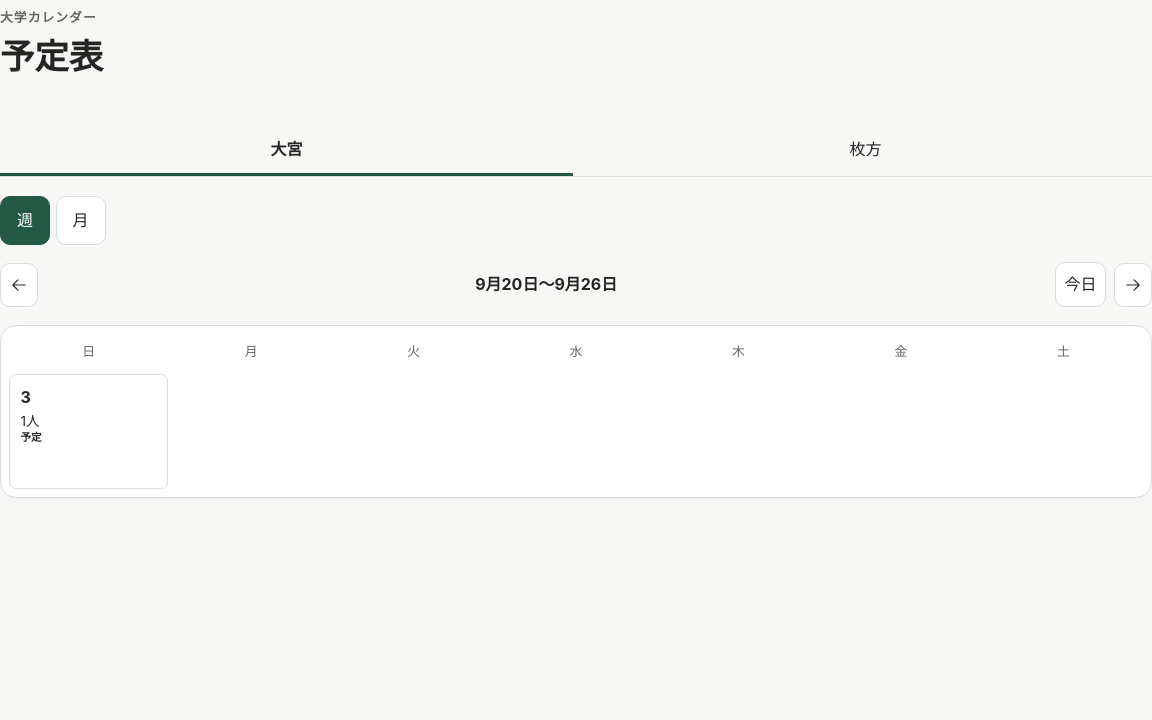
Scenario: calendar dialog dismissal › keeps delete confirmation beside the selected schedule and refreshes day and calendar
Click the button with aria-label "2099-01-03".
click(89, 431)  # box [9,374,168,489]
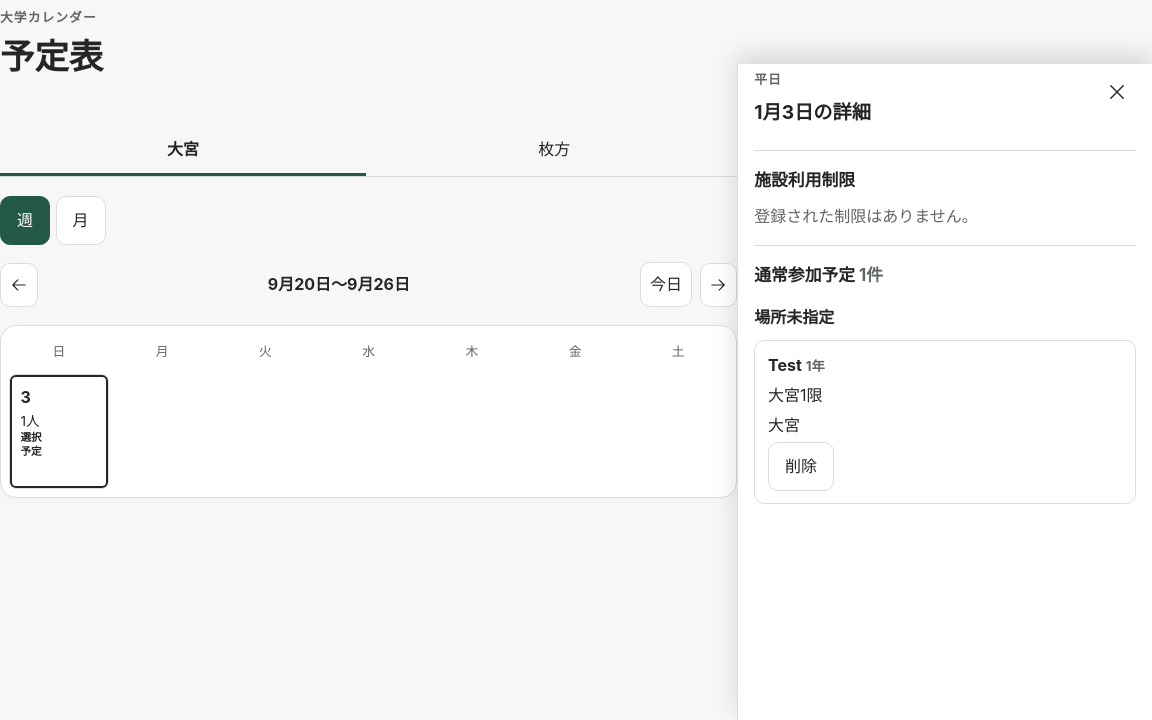
Click the button "削除".
click(801, 466)  # box [768,442,834,491]
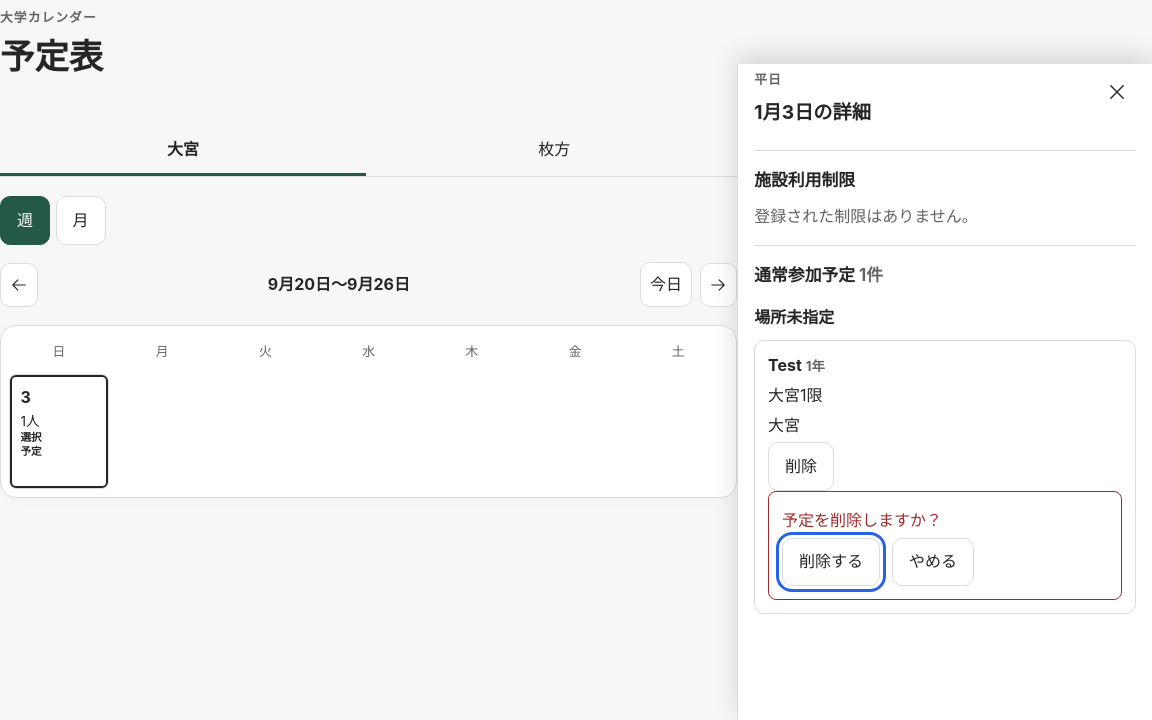
Click the button "削除する".
click(831, 562)  # box [782,538,880,586]
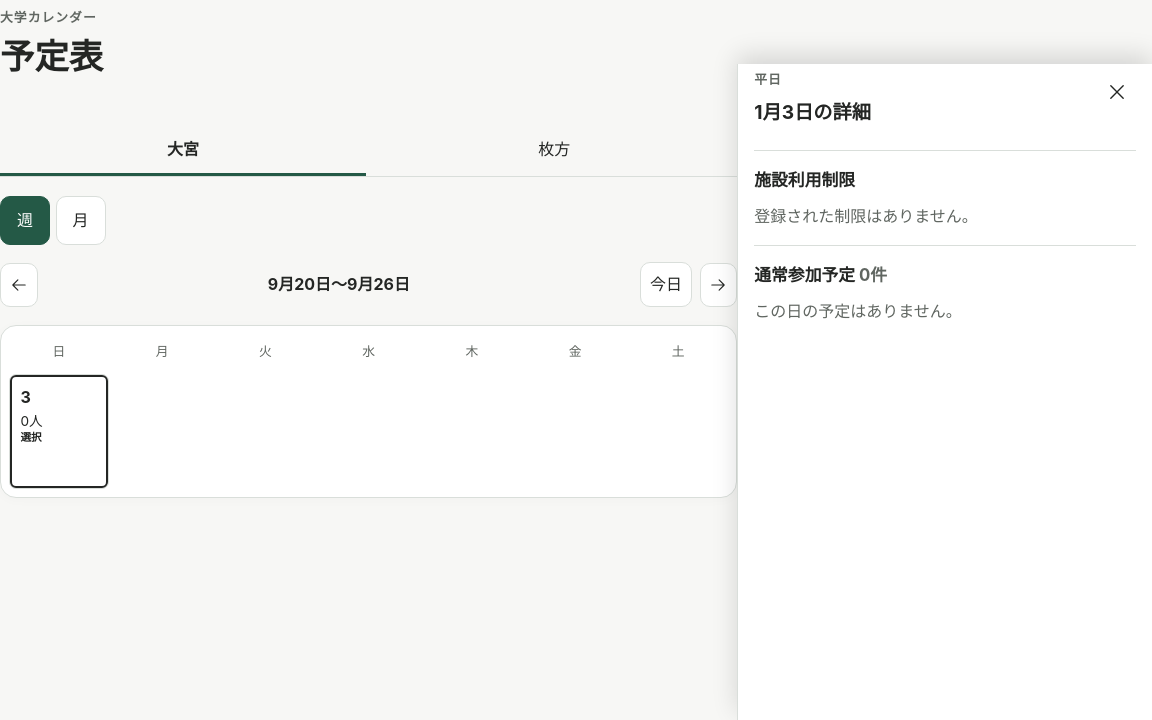
Expected: the text "この日の予定はありません。" is shown, [754,301,962,321]
